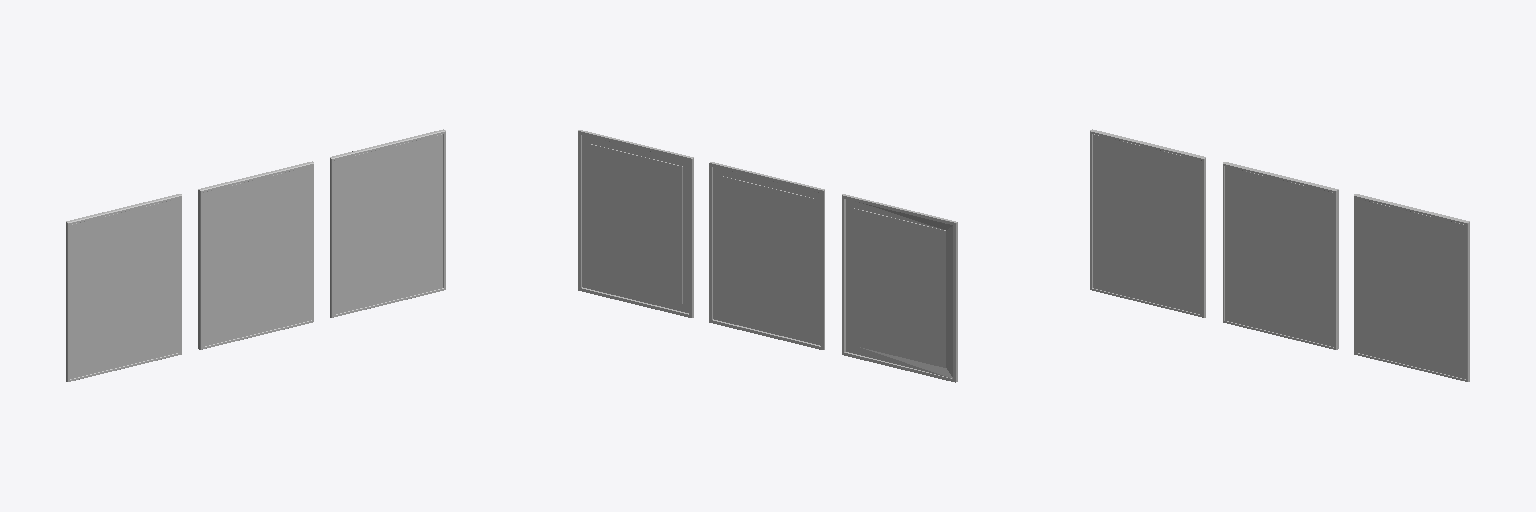
File: uploads_files_2412131_Dance+Picture+Frames.obj
The picture shows the model from 3 angles: view 1: azimuth 30°, elevation 25°; view 2: azimuth 150°, elevation 25°; view 3: azimuth 330°, elevation 25°; orthographic projection.
Visible parts, largest first — view 1: Glass01, Glass03, Glass02, Picture_frame_02, Picture_frame_03, Picture_frame_01; view 2: Picture_frame_03, Picture_frame_01, Picture_frame_02; view 3: Glass03, Glass01, Glass02, Picture_frame_02, Picture_frame_01, Picture_frame_03.
Boxes of the visible parts, x1,y1,x2,y2 form: Glass01: [70, 198, 179, 378]; Glass03: [334, 134, 442, 314]; Glass02: [203, 166, 311, 346]; Picture_frame_02: [198, 161, 313, 349]; Picture_frame_03: [330, 129, 445, 317]; Picture_frame_01: [66, 194, 181, 381]; Picture_frame_03: [578, 130, 693, 317]; Picture_frame_01: [842, 194, 957, 382]; Picture_frame_02: [709, 162, 824, 349]; Glass03: [1356, 198, 1465, 378]; Glass01: [1093, 134, 1201, 314]; Glass02: [1225, 166, 1333, 346]; Picture_frame_02: [1223, 162, 1338, 349]; Picture_frame_01: [1090, 129, 1205, 317]; Picture_frame_03: [1354, 194, 1469, 381].
Size of the model in its own units: 991 by 400 by 10.